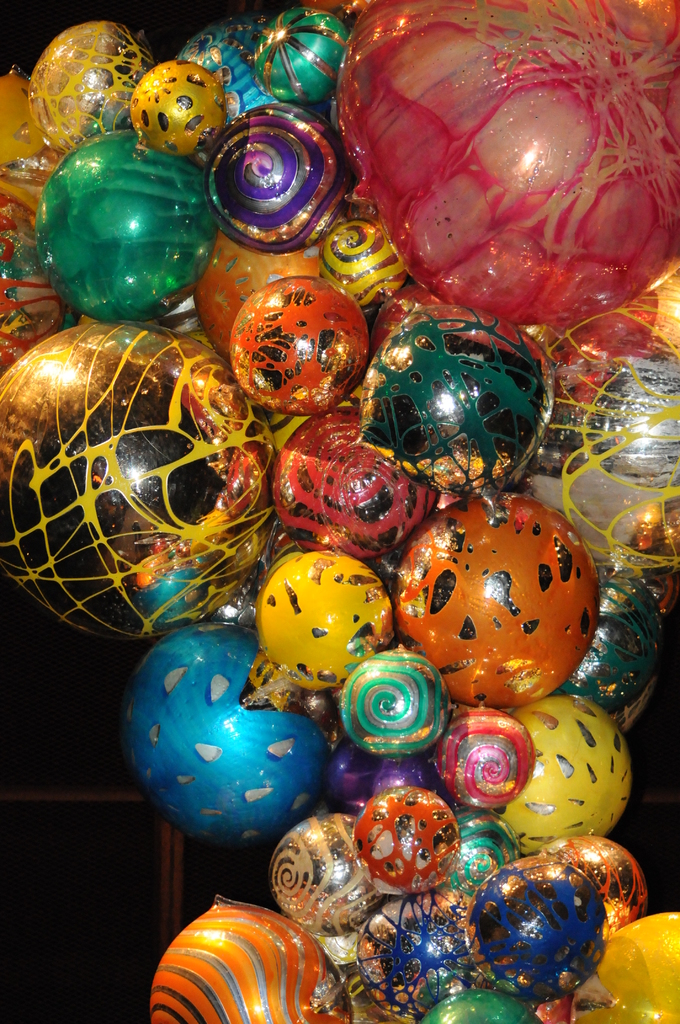Ball: (0, 0, 679, 1023), (147, 898, 357, 1023)
